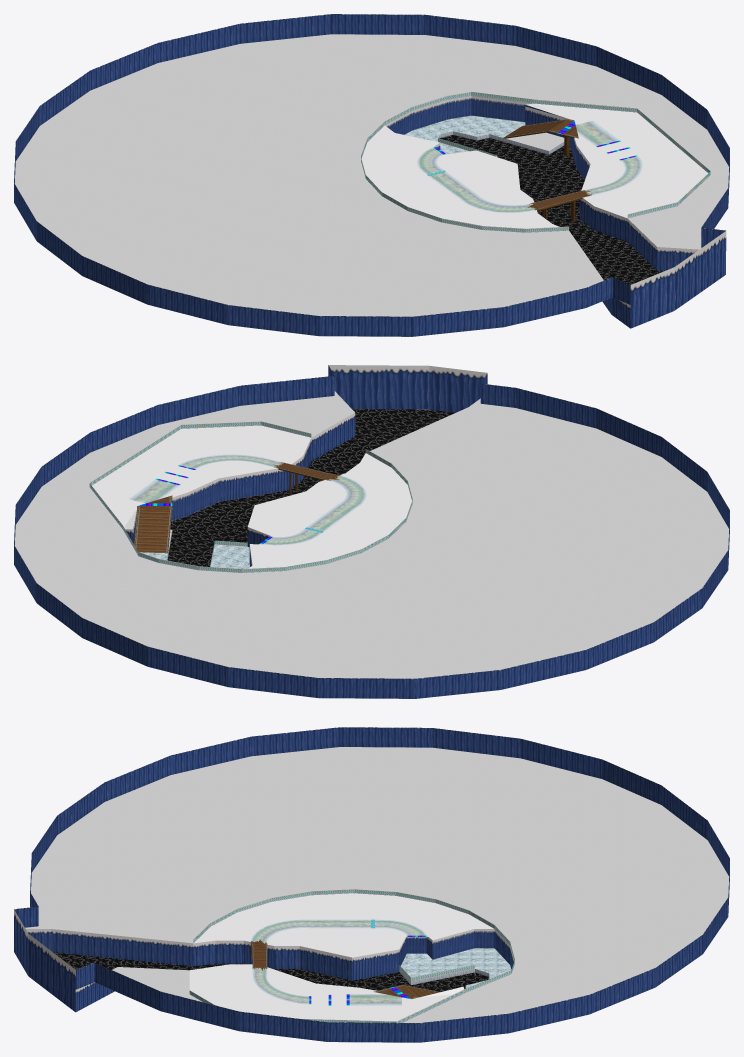
3 renders of one model, top to bottom at view 1: azimuth 30°, elevation 25°; view 2: azimuth 150°, elevation 25°; view 3: azimuth 270°, elevation 25°, orthographic. The views are drawn at different scales.
Visible parts, largest first — view 1: Icy_Creek_Main-outofbounce_snow, Icy_Creek_Main-wall, Icy_Creek_Main-offroad_snow, Icy_Creek_Main-water, Icy_Creek_Main-wall_close_to_ice, Icy_Creek_Main-walls, Icy_Creek_Main-sticky_main_road, Icy_Creek_Main-ice, Icy_Creek_Main-bridge, Icy_Creek_Main-ice_wall; view 2: Icy_Creek_Main-outofbounce_snow, Icy_Creek_Main-wall, Icy_Creek_Main-offroad_snow, Icy_Creek_Main-water, Icy_Creek_Main-wall_close_to_ice, Icy_Creek_Main-sticky_main_road, Icy_Creek_Main-walls, Icy_Creek_Main-bridge, Icy_Creek_Main-ice; view 3: Icy_Creek_Main-outofbounce_snow, Icy_Creek_Main-wall, Icy_Creek_Main-offroad_snow, Icy_Creek_Main-water, Icy_Creek_Main-wall_close_to_ice, Icy_Creek_Main-sticky_main_road, Icy_Creek_Main-walls, Icy_Creek_Main-ice, Icy_Creek_Main-bridge.
Part boxes in pixels (x1,y1,x2,y2): Icy_Creek_Main-outofbounce_snow: [14, 34, 729, 316]; Icy_Creek_Main-wall: [14, 14, 729, 336]; Icy_Creek_Main-offroad_snow: [361, 103, 708, 228]; Icy_Creek_Main-water: [440, 135, 664, 284]; Icy_Creek_Main-wall_close_to_ice: [385, 96, 590, 179]; Icy_Creek_Main-walls: [361, 91, 710, 232]; Icy_Creek_Main-sticky_main_road: [417, 120, 642, 212]; Icy_Creek_Main-ice: [404, 115, 525, 154]; Icy_Creek_Main-bridge: [503, 119, 591, 210]; Icy_Creek_Main-ice_wall: [439, 131, 564, 154]; Icy_Creek_Main-outofbounce_snow: [14, 391, 729, 678]; Icy_Creek_Main-wall: [14, 365, 729, 698]; Icy_Creek_Main-offroad_snow: [92, 425, 411, 568]; Icy_Creek_Main-water: [167, 409, 455, 566]; Icy_Creek_Main-wall_close_to_ice: [125, 468, 288, 566]; Icy_Creek_Main-sticky_main_road: [129, 454, 366, 545]; Icy_Creek_Main-walls: [89, 421, 412, 572]; Icy_Creek_Main-bridge: [134, 462, 340, 553]; Icy_Creek_Main-ice: [140, 544, 249, 568]; Icy_Creek_Main-outofbounce_snow: [25, 747, 729, 1022]; Icy_Creek_Main-wall: [14, 727, 729, 1042]; Icy_Creek_Main-offroad_snow: [189, 893, 493, 1021]; Icy_Creek_Main-water: [53, 952, 489, 991]; Icy_Creek_Main-wall_close_to_ice: [352, 929, 514, 980]; Icy_Creek_Main-sticky_main_road: [251, 919, 426, 1005]; Icy_Creek_Main-walls: [189, 889, 514, 1022]; Icy_Creek_Main-ice: [401, 948, 511, 988]; Icy_Creek_Main-bridge: [251, 939, 440, 998].
Bounding box in the file's own units: 160237 × 10945 × 163928.
15 materials, 14 textured.
